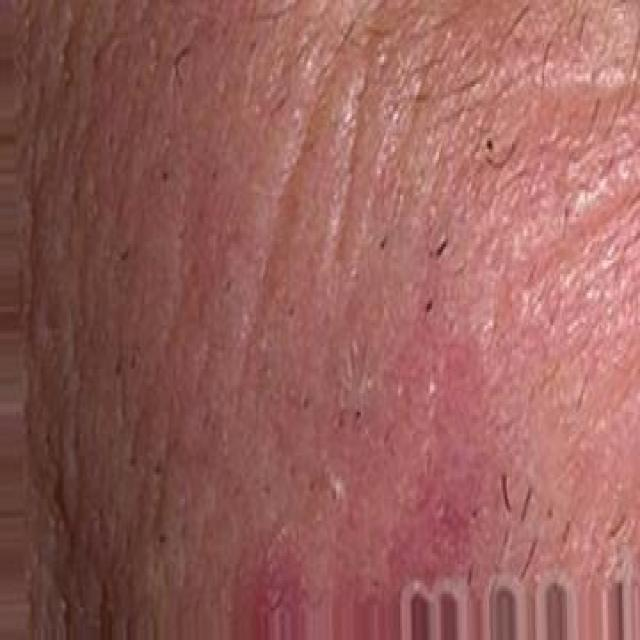Rosacea: (210, 351, 476, 608)
